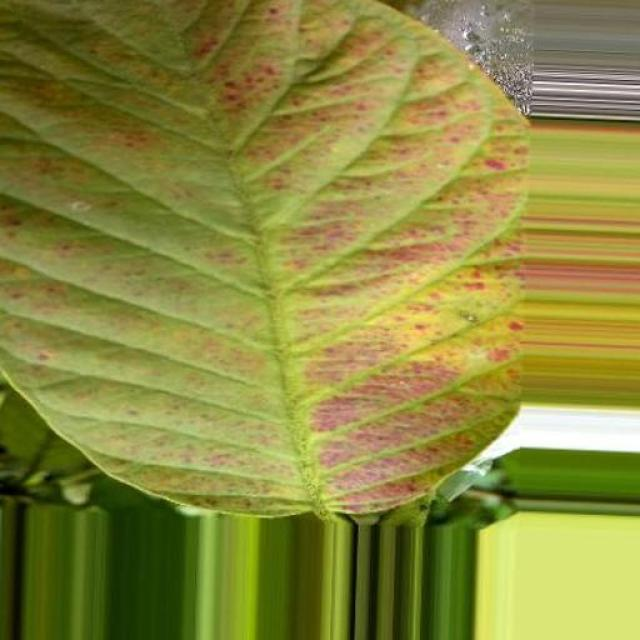Rust: (0, 1, 528, 516)
